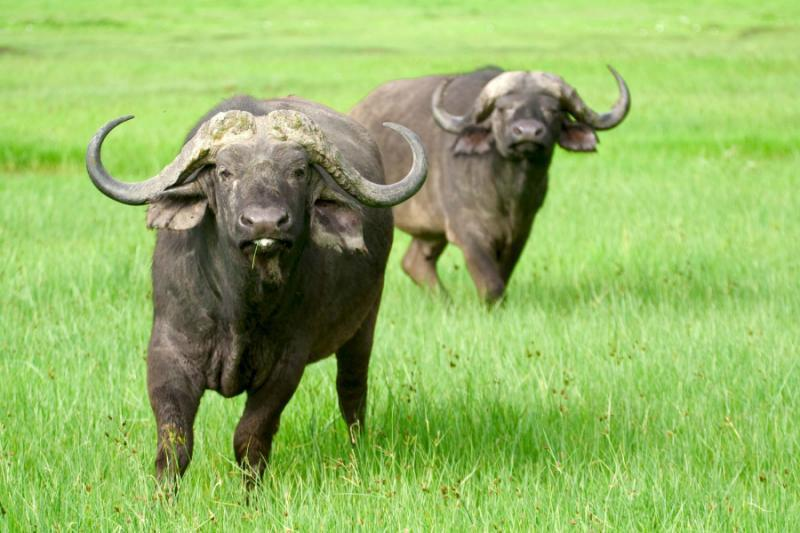Buffalo: (89, 95, 617, 491)
